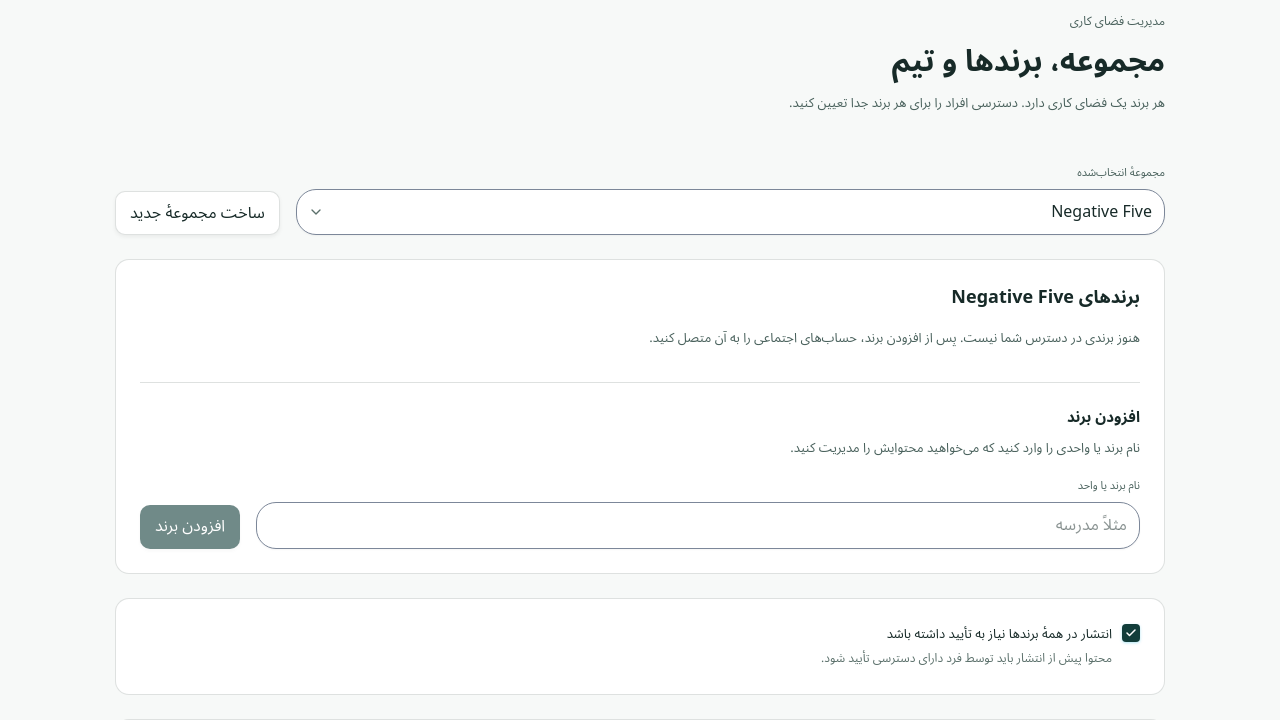
Test: existing owners can expand the new organization form
Expected: the field labelled "نام مجموعه" is not shown
Step 1. Click the button "ساخت مجموعهٔ جدید" → (197, 214), box [115, 192, 280, 236]
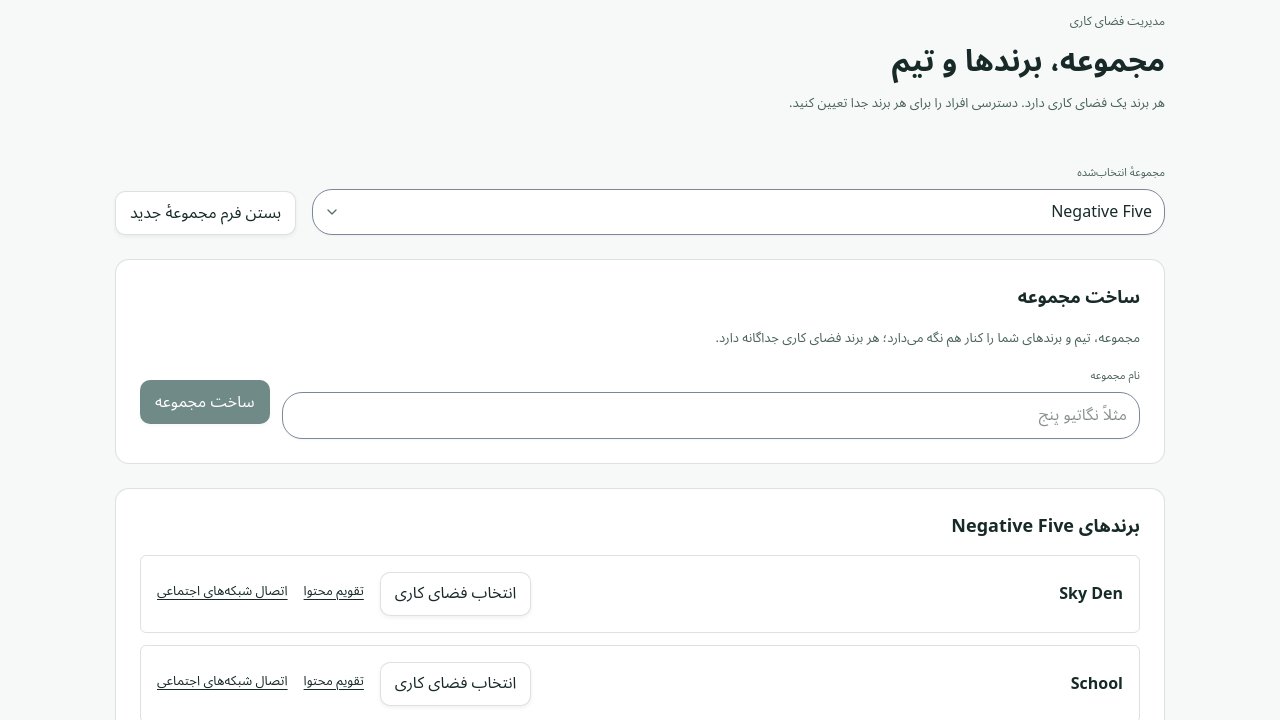
Expected: the field labelled "نام مجموعه" is shown, [282, 393, 1139, 438]
Expected: the button named "ساخت مجموعهٔ جدید" is expanded, [115, 192, 296, 236]
